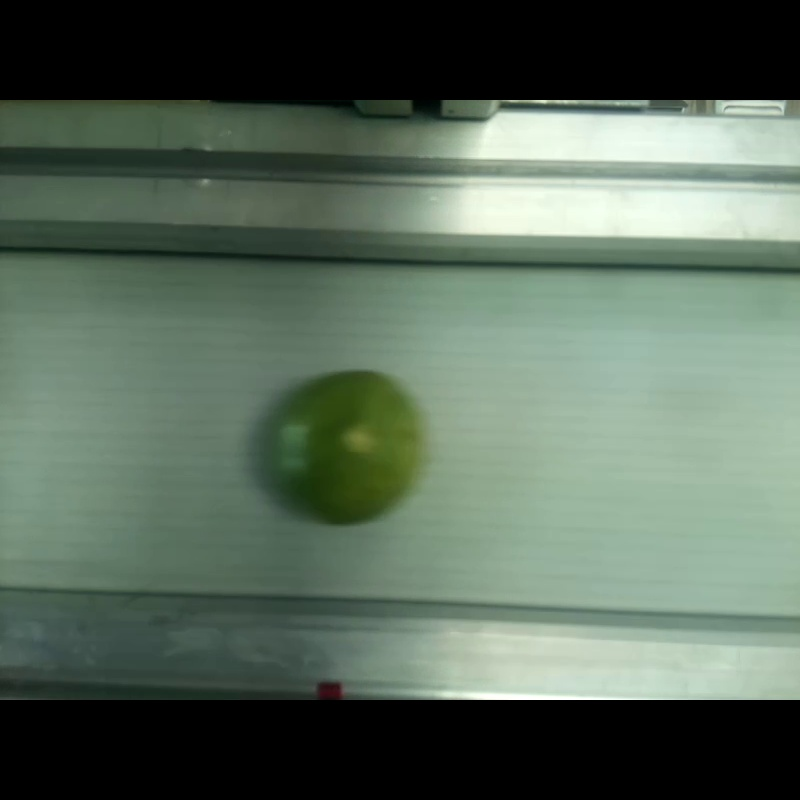lime: (270, 371, 419, 524)
